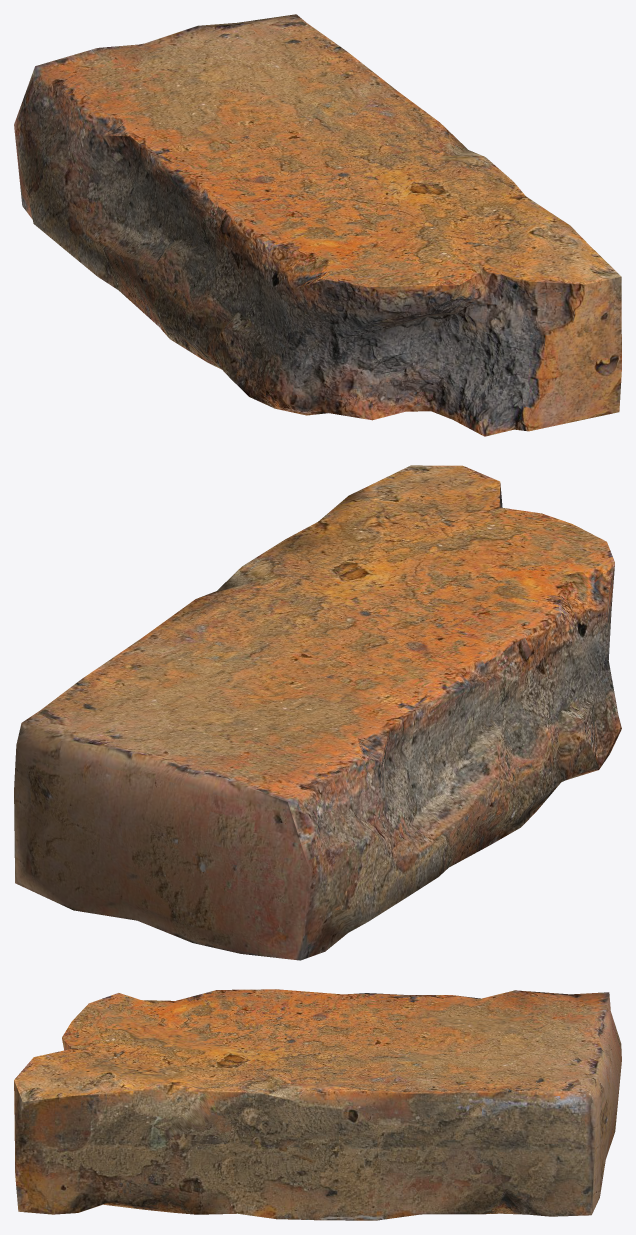
File: sm_Brick_01_04.fbx
3 renders of one model, top to bottom at view 1: azimuth 30°, elevation 25°; view 2: azimuth 150°, elevation 25°; view 3: azimuth 270°, elevation 25°, orthographic. The views are drawn at different scales.
Parts seen in each view (by area): view 1: sm_Brick_01_04_LOD0; view 2: sm_Brick_01_04_LOD0; view 3: sm_Brick_01_04_LOD0.
Boxes of the visible parts, x1,y1,x2,y2 form: sm_Brick_01_04_LOD0: [14, 14, 621, 436]; sm_Brick_01_04_LOD0: [14, 465, 621, 960]; sm_Brick_01_04_LOD0: [14, 989, 621, 1220].
Bounding box in the file's own units: 12.34 × 26.17 × 6.49.
